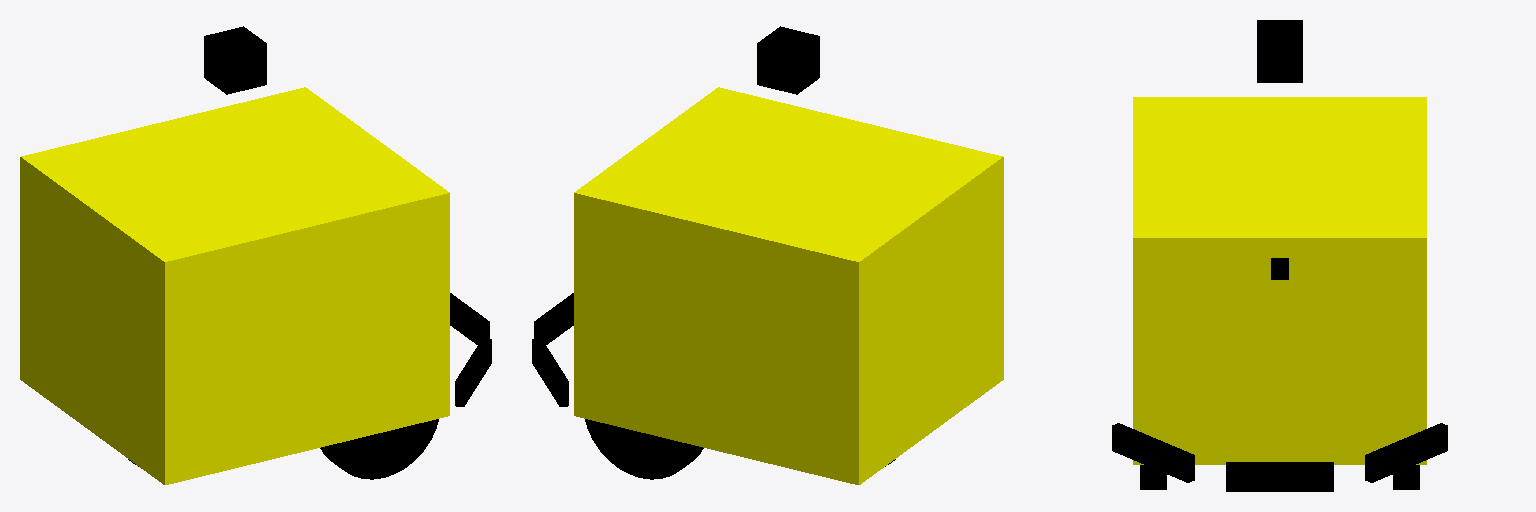
robot.urdf — plato_robot:
<?xml version="1.0" ?>
<!-- =================================================================================== -->
<!-- |    This document was autogenerated by xacro from plato.xacro                    | -->
<!-- |    EDITING THIS FILE BY HAND IS NOT RECOMMENDED                                 | -->
<!-- =================================================================================== -->
<robot name="plato_robot" xmlns:xacro="http://www.ros.org/wiki/xacro">
  <gazebo>
    <plugin filename="libgazebo_ros_diff_drive.so" name="differential_drive_controller">
      <commandTopic>cmd_vel</commandTopic>
      <odometryTopic>odom</odometryTopic>
      <odometryFrame>odom</odometryFrame>
      <robotBaseFrame>chassis</robotBaseFrame>
      <publishWheelTF>true</publishWheelTF>
      <publishWheelJointState>true</publishWheelJointState>
      <legacyMode>false</legacyMode>
      <wheelSeparation>0.27</wheelSeparation>
      <wheelDiameter>0.143</wheelDiameter>
      <wheelAcceleration>1</wheelAcceleration>
      <wheelTorque>2</wheelTorque>
      <updateRate>20</updateRate>
      <leftJoint>left_wheel_hinge</leftJoint>
      <rightJoint>right_wheel_hinge</rightJoint>
      <publishTf>1</publishTf>
    </plugin>
  </gazebo>
  <gazebo reference="chassis">
    <material>Gazebo/Yellow</material>
  </gazebo>
  <gazebo reference="left_wheel">
    <material>Gazebo/Black</material>
  </gazebo>
  <gazebo reference="right_wheel">
    <material>Gazebo/Black</material>
  </gazebo>
  <gazebo reference="caster_wheel">
    <material>Gazebo/Black</material>
  </gazebo>
  <gazebo reference="center_bumper">
    <material>Gazebo/Black</material>
  </gazebo>
  <gazebo reference="left_bumper">
    <material>Gazebo/Black</material>
  </gazebo>
  <gazebo reference="right_bumper">
    <material>Gazebo/Black</material>
  </gazebo>
  <material name="Plato/Black">
    <color rgba="0.0 0.0 0.0 1.0"/>
  </material>
  <material name="Plato/Blue">
    <color rgba="0.0 0.0 0.8 1.0"/>
  </material>
  <material name="Plato/Yellow">
    <color rgba="1 1 0 1.0"/>
  </material>
  <material name="Plato/Green">
    <color rgba="0.0 0.8 0.0 1.0"/>
  </material>
  <material name="Plato/Grey">
    <color rgba="0.2 0.2 0.2 1.0"/>
  </material>
  <material name="Plato/Orange">
    <color rgba="1.0 0.423529411765 0.0392156862745 1.0"/>
  </material>
  <material name="Plato/Brown">
    <color rgba="0.870588235294 0.811764705882 0.764705882353 1.0"/>
  </material>
  <material name="Plato/Red">
    <color rgba="0.8 0.0 0.0 1.0"/>
  </material>
  <material name="Plato/White">
    <color rgba="1.0 1.0 1.0 1.0"/>
  </material>
  <link name="chassis">
    <inertial>
      <mass value="5"/>
      <origin rpy=" 0 0 0" xyz="0 0 0"/>
      <inertia ixx="0.282096666667" ixy="0" ixz="0" iyy="0.33123" iyz="0" izz="0.375696666667"/>
    </inertial>
    <collision name="chassis_collision">
      <geometry>
        <box size="0.357                            0.313                            0.267"/>
      </geometry>
    </collision>
    <visual name="chassis_visual">
      <origin rpy=" 0 0 0" xyz="0 0 0"/>
      <geometry>
        <box size="0.357                            0.313                            0.267"/>
      </geometry>
      <material name="Plato/Yellow"/>
    </visual>
  </link>
  <link name="left_wheel">
    <collision name="left_wheel_collision">
      <origin rpy="0 1.5707 1.5707" xyz="0 0 0"/>
      <geometry>
        <cylinder length="0.028" radius="0.0715"/>
      </geometry>
    </collision>
    <visual name="left_wheel_visual">
      <origin rpy="0 1.5707 1.5707" xyz="0 0 0"/>
      <geometry>
        <cylinder length="0.028" radius="0.0715"/>
      </geometry>
      <material name="Plato/Black"/>
    </visual>
    <inertial>
      <origin rpy="0 1.5707 1.5707" xyz="0 0 0"/>
      <mass value="0.1"/>
      <inertia ixx="0.000134339583333" ixy="0" ixz="0" iyy="0.000134339583333" iyz="0" izz="0.0002556125"/>
    </inertial>
  </link>
  <joint name="left_wheel_hinge" type="continuous">
    <origin rpy="0 0 0" xyz="0.1                     0.135                     -0.121"/>
    <parent link="chassis"/>
    <child link="left_wheel"/>
    <axis xyz="0 1 0"/>
    <limit effort="5" velocity="10"/>
    <joint_properties damping="0.0" friction="0.0"/>
  </joint>
  <gazebo reference="left_wheel">
    <mu1 value="1.0"/>
    <mu2 value="1.0"/>
    <kp value="10000.0"/>
    <kd>100.0</kd>
    <minDepth>0.0001</minDepth>
    <maxVel>1.0</maxVel>
    <material>Gazebo/FlatBlack</material>
  </gazebo>
  <link name="right_wheel">
    <collision name="right_wheel_collision">
      <origin rpy="0 1.5707 1.5707" xyz="0 0 0"/>
      <geometry>
        <cylinder length="0.028" radius="0.0715"/>
      </geometry>
    </collision>
    <visual name="right_wheel_visual">
      <origin rpy="0 1.5707 1.5707" xyz="0 0 0"/>
      <geometry>
        <cylinder length="0.028" radius="0.0715"/>
      </geometry>
      <material name="Plato/Black"/>
    </visual>
    <inertial>
      <origin rpy="0 1.5707 1.5707" xyz="0 0 0"/>
      <mass value="0.1"/>
      <inertia ixx="0.000134339583333" ixy="0" ixz="0" iyy="0.000134339583333" iyz="0" izz="0.0002556125"/>
    </inertial>
  </link>
  <joint name="right_wheel_hinge" type="continuous">
    <origin rpy="0 0 0" xyz="0.1                    -0.135                    -0.121"/>
    <parent link="chassis"/>
    <child link="right_wheel"/>
    <axis xyz="0 1 0"/>
    <limit effort="5" velocity="10"/>
    <joint_properties damping="0.0" friction="0.0"/>
  </joint>
  <gazebo reference="right_wheel">
    <mu1 value="1.0"/>
    <mu2 value="1.0"/>
    <kp value="10000.0"/>
    <kd>100.0</kd>
    <minDepth>0.0001</minDepth>
    <maxVel>1.0</maxVel>
    <material>Gazebo/FlatBlack</material>
  </gazebo>
  <link name="caster_wheel">
    <inertial>
      <mass value="0.1"/>
      <origin rpy=" 0 0 0" xyz="0 0 0"/>
      <inertia ixx="7.225e-05" ixy="0" ixz="0" iyy="7.225e-05" iyz="0" izz="7.225e-05"/>
    </inertial>
    <collision name="caster_wheel_collision">
      <origin rpy=" 0 0 0" xyz="0 0 0"/>
      <geometry>
        <sphere radius="0.0425"/>
      </geometry>
    </collision>
    <visual name="caster_wheel_visual">
      <origin rpy=" 0 0 0" xyz="0 0 0"/>
      <geometry>
        <sphere radius="0.0425"/>
      </geometry>
      <material name="Plato/Black"/>
    </visual>
  </link>
  <joint name="caster_wheel_joint" type="fixed">
    <parent link="chassis"/>
    <child link="caster_wheel"/>
    <origin rpy="0 0 0" xyz="-0.1                    0                    -0.15"/>
  </joint>
  <gazebo reference="caster_wheel">
    <mu1>0.0</mu1>
    <mu2>0.0</mu2>
    <kp>100000000.0</kp>
    <kd>1.0</kd>
    <minDepth>0.0001</minDepth>
    <maxVel>1.0</maxVel>
  </gazebo>
  <joint name="velodyne_base_mount_joint" type="fixed">
    <origin rpy="0 0 0" xyz="0 0 0.2"/>
    <parent link="chassis"/>
    <child link="velodyne_base_link"/>
  </joint>
  <link name="velodyne_base_link">
    <inertial>
      <mass value="0.83"/>
      <origin xyz="0 0 0.03585"/>
      <inertia ixx="0.000908059425" ixy="0" ixz="0" iyy="0.000908059425" iyz="0" izz="0.0011049624"/>
    </inertial>
    <visual>
      <geometry>
        <mesh filename="package://plato_description/meshes/VLP16_base_1.dae"/>
      </geometry>
    </visual>
    <visual>
      <geometry>
        <mesh filename="package://plato_description/meshes/VLP16_base_2.dae"/>
      </geometry>
    </visual>
    <collision>
      <origin rpy="0 0 0" xyz="0 0 0.03585"/>
      <geometry>
        <cylinder length="0.0717" radius="0.0516"/>
      </geometry>
    </collision>
  </link>
  <joint name="velodyne_base_scan_joint" type="fixed">
    <origin rpy="0 0 0" xyz="0 0 0.0377"/>
    <parent link="velodyne_base_link"/>
    <child link="velodyne"/>
  </joint>
  <link name="velodyne">
    <inertial>
      <mass value="0.01"/>
      <origin xyz="0 0 0"/>
      <inertia ixx="1e-7" ixy="0" ixz="0" iyy="1e-7" iyz="0" izz="1e-7"/>
    </inertial>
    <visual>
      <origin xyz="0 0 -0.0377"/>
      <geometry>
        <mesh filename="package://plato_description/meshes/VLP16_scan.dae"/>
      </geometry>
    </visual>
  </link>
  <!-- Gazebo requires the velodyne_gazebo_plugins package -->
  <gazebo reference="velodyne">
    <sensor name="velodyne-VLP16" type="ray">
      <pose>0 0 0 0 0 0</pose>
      <visualize>false</visualize>
      <update_rate>10</update_rate>
      <ray>
        <scan>
          <horizontal>
            <samples>440</samples>
            <resolution>1</resolution>
            <min_angle>-3.14159265359</min_angle>
            <max_angle>3.14159265359</max_angle>
          </horizontal>
          <vertical>
            <samples>16</samples>
            <resolution>1</resolution>
            <min_angle>-0.261799387799</min_angle>
            <max_angle> 0.261799387799</max_angle>
          </vertical>
        </scan>
        <range>
          <min>0.3</min>
          <max>131.0</max>
          <resolution>0.001</resolution>
        </range>
        <noise>
          <type>gaussian</type>
          <mean>0.0</mean>
          <stddev>0.0</stddev>
        </noise>
      </ray>
      <plugin filename="libgazebo_ros_velodyne_laser.so" name="gazebo_ros_laser_controller">
        <topicName>/velodyne_points</topicName>
        <frameName>velodyne</frameName>
        <min_range>0.9</min_range>
        <max_range>130.0</max_range>
        <gaussianNoise>0.008</gaussianNoise>
      </plugin>
    </sensor>
  </gazebo>
  <joint name="camera_joint" type="fixed">
    <axis xyz="0 1 0"/>
    <origin rpy="0 0 0" xyz="0 0 0.27"/>
    <parent link="chassis"/>
    <child link="camera"/>
  </joint>
  <link name="camera">
    <collision>
      <origin rpy="0 0 0" xyz="0 0 0"/>
      <geometry>
        <box size="0.05 0.05 0.05"/>
      </geometry>
    </collision>
    <visual>
      <origin rpy="0 0 0" xyz="0 0 0"/>
      <geometry>
        <box size="0.05 0.05 0.05"/>
      </geometry>
      <material name="Plato/Black"/>
    </visual>
    <inertial>
      <mass value="0.1"/>
      <origin rpy="0 0 0" xyz="0 0 0"/>
      <box_inertia m="0.1" x="0.05" y="0.05" z="0.05"/>
      <inertia ixx="1e-6" ixy="0" ixz="0" iyy="1e-6" iyz="0" izz="1e-6"/>
    </inertial>
  </link>
  <gazebo reference="camera">
    <material>Plato/Green</material>
    <sensor name="camera1" type="camera">
      <update_rate>30.0</update_rate>
      <camera name="head">
        <horizontal_fov>1.3962634</horizontal_fov>
        <image>
          <width>1920</width>
          <height>1080</height>
          <format>R8G8B8</format>
        </image>
        <clip>
          <near>0.02</near>
          <far>300</far>
        </clip>
      </camera>
      <plugin filename="libgazebo_ros_camera.so" name="camera_controller">
        <alwaysOn>true</alwaysOn>
        <updateRate>0.0</updateRate>
        <cameraName>plato/camera1</cameraName>
        <imageTopicName>image_raw</imageTopicName>
        <cameraInfoTopicName>camera_info</cameraInfoTopicName>
        <frameName>camera</frameName>
        <hackBaseline>0.07</hackBaseline>
        <distortionK1>0.0</distortionK1>
        <distortionK2>0.0</distortionK2>
        <distortionK3>0.0</distortionK3>
        <distortionT1>0.0</distortionT1>
        <distortionT2>0.0</distortionT2>
      </plugin>
    </sensor>
  </gazebo>
  <!-- <hokuyo_sensor xyz="${hokuyo_pos_x} ${hokuyo_pos_y} ${hokuyo_pos_z}"
                   rpy="0 0 0" parent="${base_name}"
                   color="${color_lidar}">
    </hokuyo_sensor> -->
  <joint name="imu_sensor_joint" type="fixed">
    <axis xyz="0 0 1"/>
    <origin rpy="0 0 0" xyz="0.18 0 0.1"/>
    <parent link="chassis"/>
    <child link="imu_sensor_link"/>
  </joint>
  <link name="imu_sensor_link">
    <collision>
      <origin rpy="0 0 0" xyz="0 0 0"/>
      <geometry>
        <box size="0.02 0.02 0.02"/>
      </geometry>
    </collision>
    <visual>
      <origin rpy="0 0 0" xyz="0 0 0"/>
      <geometry>
        <box size="0.02 0.02 0.02"/>
      </geometry>
      <material name="Plato/Black"/>
    </visual>
    <inertial>
      <mass value="0.001"/>
      <origin rpy="0 0 0" xyz="0 0 0"/>
      <inertia ixx="0.00000015" ixy="0" ixz="0" iyy="0.00000015" iyz="0" izz="0.00000015"/>
    </inertial>
  </link>
  <gazebo reference="imu_sensor_link">
    <gravity>true</gravity>
    <sensor name="imu_sensor" type="imu">
      <always_on>true</always_on>
      <update_rate>100</update_rate>
      <visualize>true</visualize>
      <topic>__default_topic__</topic>
      <plugin filename="libgazebo_ros_imu_sensor.so" name="imu_plugin">
        <topicName>plato/imu_data</topicName>
        <bodyName>imu_link</bodyName>
        <updateRateHZ>10.0</updateRateHZ>
        <gaussianNoise>0.0</gaussianNoise>
        <xyzOffset>0 0 0</xyzOffset>
        <rpyOffset>0 0 0</rpyOffset>
        <frameName>imu_sensor_link</frameName>
      </plugin>
      <pose>0 0 0 0 0 0</pose>
    </sensor>
  </gazebo>
  <joint name="center_bumper_base_joint" type="fixed">
    <origin rpy="0 0 0" xyz="0.28 0 -0.1"/>
    <parent link="chassis"/>
    <child link="center_bumper"/>
  </joint>
  <link name="center_bumper">
    <inertial>
      <mass value="0.01"/>
      <inertia ixx="0.01" ixy="0.0" ixz="0.0" iyy="0.01" iyz="0.0" izz="0.01"/>
    </inertial>
    <visual>
      <origin rpy="0 0 0" xyz="0 0 0"/>
      <geometry>
        <box size="0.01 0.115 0.03"/>
      </geometry>
      <material name="Plato/Black"/>
    </visual>
    <collision name="center_bumper">
      <origin rpy="0 0 0" xyz="0 0 0"/>
      <geometry>
        <box size="0.01 0.115 0.03"/>
      </geometry>
    </collision>
  </link>
  <gazebo reference="center_bumper">
    <selfCollide>false</selfCollide>
    <sensor name="center_bumper_collision_sensor" type="contact">
      <always_on>true</always_on>
      <update_rate>30.0</update_rate>
      <contact>
        <collision>chassis_fixed_joint_lump__center_bumper_collision_3</collision>
      </contact>
      <plugin filename="libgazebo_ros_bumper.so" name="center_bumper_gazebo_ros_bumper_controller">
        <bumperTopicName>center_bumper</bumperTopicName>
        <frameName>center_bumper</frameName>
      </plugin>
    </sensor>
  </gazebo>
  <joint name="right_bumper_base_joint" type="fixed">
    <origin rpy="0 0 -0.785398163397" xyz="0.22 -0.135 -0.1"/>
    <parent link="chassis"/>
    <child link="right_bumper"/>
  </joint>
  <link name="right_bumper">
    <inertial>
      <mass value="0.01"/>
      <inertia ixx="0.01" ixy="0.0" ixz="0.0" iyy="0.01" iyz="0.0" izz="0.01"/>
    </inertial>
    <visual>
      <origin rpy="0 0 0" xyz="0 0 0"/>
      <geometry>
        <box size="0.01 0.115 0.03"/>
      </geometry>
      <material name="Plato/Black"/>
    </visual>
    <collision name="right_bumper">
      <origin rpy="0 0 0" xyz="0 0 0"/>
      <geometry>
        <box size="0.01 0.115 0.03"/>
      </geometry>
    </collision>
  </link>
  <gazebo reference="right_bumper">
    <selfCollide>false</selfCollide>
    <sensor name="right_bumper_collision_sensor" type="contact">
      <always_on>true</always_on>
      <update_rate>30.0</update_rate>
      <contact>
        <collision>chassis_fixed_joint_lump__right_bumper_collision_9</collision>
      </contact>
      <plugin filename="libgazebo_ros_bumper.so" name="right_bumper_gazebo_ros_bumper_controller">
        <bumperTopicName>right_bumper</bumperTopicName>
        <frameName>right_bumper</frameName>
      </plugin>
    </sensor>
  </gazebo>
  <joint name="left_bumper_base_joint" type="fixed">
    <origin rpy="0 0 0.785398163397" xyz="0.22 0.135 -0.1"/>
    <parent link="chassis"/>
    <child link="left_bumper"/>
  </joint>
  <link name="left_bumper">
    <inertial>
      <mass value="0.01"/>
      <inertia ixx="0.01" ixy="0.0" ixz="0.0" iyy="0.01" iyz="0.0" izz="0.01"/>
    </inertial>
    <visual>
      <origin rpy="0 0 0" xyz="0 0 0"/>
      <geometry>
        <box size="0.01 0.115 0.03"/>
      </geometry>
      <material name="Plato/Black"/>
    </visual>
    <collision name="left_bumper">
      <origin rpy="0 0 0" xyz="0 0 0"/>
      <geometry>
        <box size="0.01 0.115 0.03"/>
      </geometry>
    </collision>
  </link>
  <gazebo reference="left_bumper">
    <selfCollide>false</selfCollide>
    <sensor name="left_bumper_collision_sensor" type="contact">
      <always_on>true</always_on>
      <update_rate>30.0</update_rate>
      <contact>
        <collision>chassis_fixed_joint_lump__left_bumper_collision_7</collision>
      </contact>
      <plugin filename="libgazebo_ros_bumper.so" name="left_bumper_gazebo_ros_bumper_controller">
        <bumperTopicName>left_bumper</bumperTopicName>
        <frameName>left_bumper</frameName>
      </plugin>
    </sensor>
  </gazebo>
  <joint name="center_sonar_joint" type="fixed">
    <origin rpy="0 0 0" xyz="0.25 0 0"/>
    <parent link="chassis"/>
    <child link="center_sonar_link"/>
  </joint>
  <link name="center_sonar_link">
    <inertial>
      <mass value="0.001"/>
      <origin rpy="0 0 0" xyz="0 0 0"/>
      <inertia ixx="0.000000017" ixy="0" ixz="0" iyy="0.000000017" iyz="0" izz="0.000000017"/>
    </inertial>
    <visual>
      <origin rpy="0 0 0" xyz="0 0 0"/>
      <geometry>
        <mesh filename="package://plato_description/meshes/max_sonar_ez4.dae"/>
      </geometry>
      <material name="Plato/Black"/>
    </visual>
    <collision>
      <origin rpy="0 0 0" xyz="0 0 0"/>
      <geometry>
        <box size="0.01 0.01 0.01"/>
      </geometry>
    </collision>
  </link>
  <gazebo reference="center_sonar_link">
    <sensor name="center_sonar" type="ray">
      <always_on>true</always_on>
      <update_rate>10</update_rate>
      <pose>0 0 0 0 0 0</pose>
      <visualize>false</visualize>
      <ray>
        <scan>
          <horizontal>
            <samples>2</samples>
            <resolution>1</resolution>
            <min_angle>-28.0</min_angle>
            <max_angle> 28.0</max_angle>
          </horizontal>
          <vertical>
            <samples>2</samples>
            <resolution>1</resolution>
            <min_angle>-28.0</min_angle>
            <max_angle> 28.0</max_angle>
          </vertical>
        </scan>
        <range>
          <min>0.3</min>
          <max>2</max>
          <resolution>0.01</resolution>
        </range>
      </ray>
      <plugin filename="libhector_gazebo_ros_sonar.so" name="gazebo_ros_center_sonar_controller">
        <gaussianNoise>0.005</gaussianNoise>
        <topicName>/center_sonar</topicName>
        <frameId>center_sonar_link</frameId>
      </plugin>
    </sensor>
  </gazebo>
  <joint name="left_sonar_joint" type="fixed">
    <origin rpy="0 0 -0.785398163397" xyz="0.22 -0.095 0"/>
    <parent link="chassis"/>
    <child link="left_sonar_link"/>
  </joint>
  <link name="left_sonar_link">
    <inertial>
      <mass value="0.001"/>
      <origin rpy="0 0 0" xyz="0 0 0"/>
      <inertia ixx="0.000000017" ixy="0" ixz="0" iyy="0.000000017" iyz="0" izz="0.000000017"/>
    </inertial>
    <visual>
      <origin rpy="0 0 0" xyz="0 0 0"/>
      <geometry>
        <mesh filename="package://plato_description/meshes/max_sonar_ez4.dae"/>
      </geometry>
      <material name="Plato/Black"/>
    </visual>
    <collision>
      <origin rpy="0 0 0" xyz="0 0 0"/>
      <geometry>
        <box size="0.01 0.01 0.01"/>
      </geometry>
    </collision>
  </link>
  <gazebo reference="left_sonar_link">
    <sensor name="left_sonar" type="ray">
      <always_on>true</always_on>
      <update_rate>10</update_rate>
      <pose>0 0 0 0 0 0</pose>
      <visualize>false</visualize>
      <ray>
        <scan>
          <horizontal>
            <samples>2</samples>
            <resolution>1</resolution>
            <min_angle>-28.0</min_angle>
            <max_angle> 28.0</max_angle>
          </horizontal>
          <vertical>
            <samples>2</samples>
            <resolution>1</resolution>
            <min_angle>-28.0</min_angle>
            <max_angle> 28.0</max_angle>
          </vertical>
        </scan>
        <range>
          <min>0.3</min>
          <max>2</max>
          <resolution>0.01</resolution>
        </range>
      </ray>
      <plugin filename="libhector_gazebo_ros_sonar.so" name="gazebo_ros_left_sonar_controller">
        <gaussianNoise>0.005</gaussianNoise>
        <topicName>/left_sonar</topicName>
        <frameId>left_sonar_link</frameId>
      </plugin>
    </sensor>
  </gazebo>
  <joint name="right_sonar_joint" type="fixed">
    <origin rpy="0 0 0.785398163397" xyz="0.22 0.095 0"/>
    <parent link="chassis"/>
    <child link="right_sonar_link"/>
  </joint>
  <link name="right_sonar_link">
    <inertial>
      <mass value="0.001"/>
      <origin rpy="0 0 0" xyz="0 0 0"/>
      <inertia ixx="0.000000017" ixy="0" ixz="0" iyy="0.000000017" iyz="0" izz="0.000000017"/>
    </inertial>
    <visual>
      <origin rpy="0 0 0" xyz="0 0 0"/>
      <geometry>
        <mesh filename="package://plato_description/meshes/max_sonar_ez4.dae"/>
      </geometry>
      <material name="Plato/Black"/>
    </visual>
    <collision>
      <origin rpy="0 0 0" xyz="0 0 0"/>
      <geometry>
        <box size="0.01 0.01 0.01"/>
      </geometry>
    </collision>
  </link>
  <gazebo reference="right_sonar_link">
    <sensor name="right_sonar" type="ray">
      <always_on>true</always_on>
      <update_rate>10</update_rate>
      <pose>0 0 0 0 0 0</pose>
      <visualize>false</visualize>
      <ray>
        <scan>
          <horizontal>
            <samples>2</samples>
            <resolution>1</resolution>
            <min_angle>-28.0</min_angle>
            <max_angle> 28.0</max_angle>
          </horizontal>
          <vertical>
            <samples>2</samples>
            <resolution>1</resolution>
            <min_angle>-28.0</min_angle>
            <max_angle> 28.0</max_angle>
          </vertical>
        </scan>
        <range>
          <min>0.3</min>
          <max>2</max>
          <resolution>0.01</resolution>
        </range>
      </ray>
      <plugin filename="libhector_gazebo_ros_sonar.so" name="gazebo_ros_right_sonar_controller">
        <gaussianNoise>0.005</gaussianNoise>
        <topicName>/right_sonar</topicName>
        <frameId>right_sonar_link</frameId>
      </plugin>
    </sensor>
  </gazebo>
</robot>

--- Render facts (derived) ---
The picture shows the robot from 3 angles, left to right: view 1: azimuth 30°, elevation 25°; view 2: azimuth 150°, elevation 25°; view 3: azimuth 270°, elevation 25°; orthographic projection.
Model plato_robot with 14 links and 13 joints (2 continuous, 11 fixed), rooted at chassis, posed every joint at zero.
Visible links, largest first — view 1: chassis, right_wheel, camera, right_bumper, center_bumper; view 2: chassis, left_wheel, camera, left_bumper, center_bumper; view 3: chassis, center_bumper, camera, right_bumper, left_bumper, left_wheel, right_wheel.
Boxes of the visible links, x1,y1,x2,y2 form: chassis: (20, 87, 449, 484); right_wheel: (320, 419, 438, 479); camera: (204, 26, 266, 94); right_bumper: (455, 338, 491, 406); center_bumper: (450, 293, 489, 344); chassis: (574, 87, 1003, 484); left_wheel: (585, 419, 703, 479); camera: (757, 26, 819, 94); left_bumper: (532, 338, 568, 406); center_bumper: (534, 293, 573, 344); chassis: (1133, 97, 1426, 464); center_bumper: (1226, 462, 1333, 491); camera: (1257, 20, 1302, 82); right_bumper: (1112, 423, 1194, 482); left_bumper: (1365, 423, 1447, 482); left_wheel: (1393, 465, 1419, 489); right_wheel: (1140, 465, 1166, 489).
Size in the robot's own frame: 0.4635 by 0.3584 by 0.4875 metres.
Meshes: 4 distinct files referenced, 0 mesh visuals loaded (none loaded); not drawn: 6 (reference not matched to a file when rendering).
